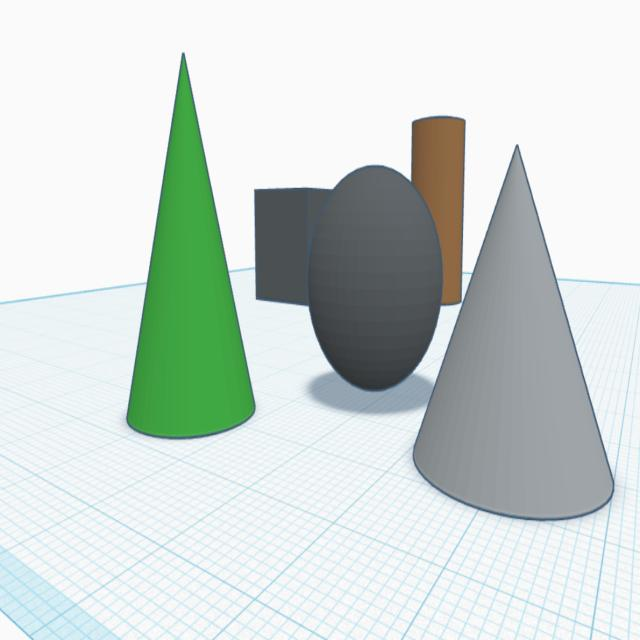cone: (410, 142, 616, 526), (124, 45, 258, 448)
sphere: (304, 162, 446, 394)
